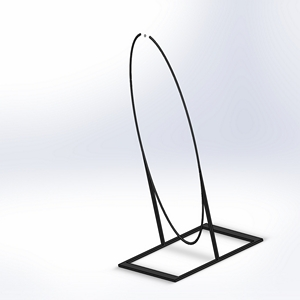circle: (118, 31, 265, 282)
